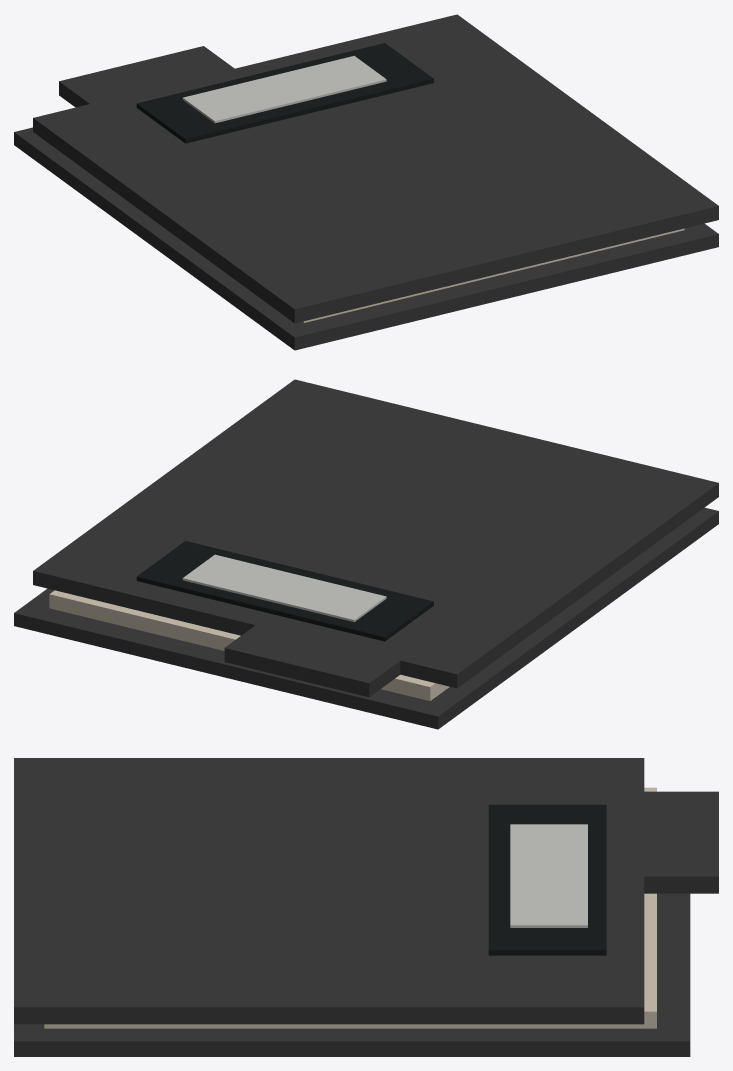
Rendered from CMU3DFolderBlack.glb.
3 renders of one model, top to bottom at view 1: azimuth 30°, elevation 25°; view 2: azimuth 150°, elevation 25°; view 3: azimuth 270°, elevation 25°, orthographic. The views are drawn at different scales.
Parts seen in each view (by area): view 1: folder cover, folder back, label inset, paper label, upper tab, file pages; view 2: folder cover, folder back, label inset, upper tab, paper label, file pages; view 3: folder cover, folder back, label inset, paper label, upper tab, file pages.
Part boxes in pixels (<box>): folder cover: <box>33,14,718,323</box>; folder back: <box>14,127,718,350</box>; label inset: <box>136,43,433,143</box>; paper label: <box>182,55,386,123</box>; upper tab: <box>59,46,235,107</box>; file pages: <box>302,228,684,322</box>; folder cover: <box>33,379,718,688</box>; folder back: <box>14,507,718,729</box>; label inset: <box>136,541,433,641</box>; upper tab: <box>224,625,400,697</box>; paper label: <box>182,554,386,622</box>; file pages: <box>49,590,449,700</box>; folder cover: <box>14,758,644,1024</box>; folder back: <box>14,893,690,1056</box>; label inset: <box>488,804,606,955</box>; paper label: <box>510,824,587,927</box>; upper tab: <box>640,791,718,893</box>; file pages: <box>44,787,656,1028</box>.
Bounding box in the file's own units: 0.41 × 0.044 × 0.49.
